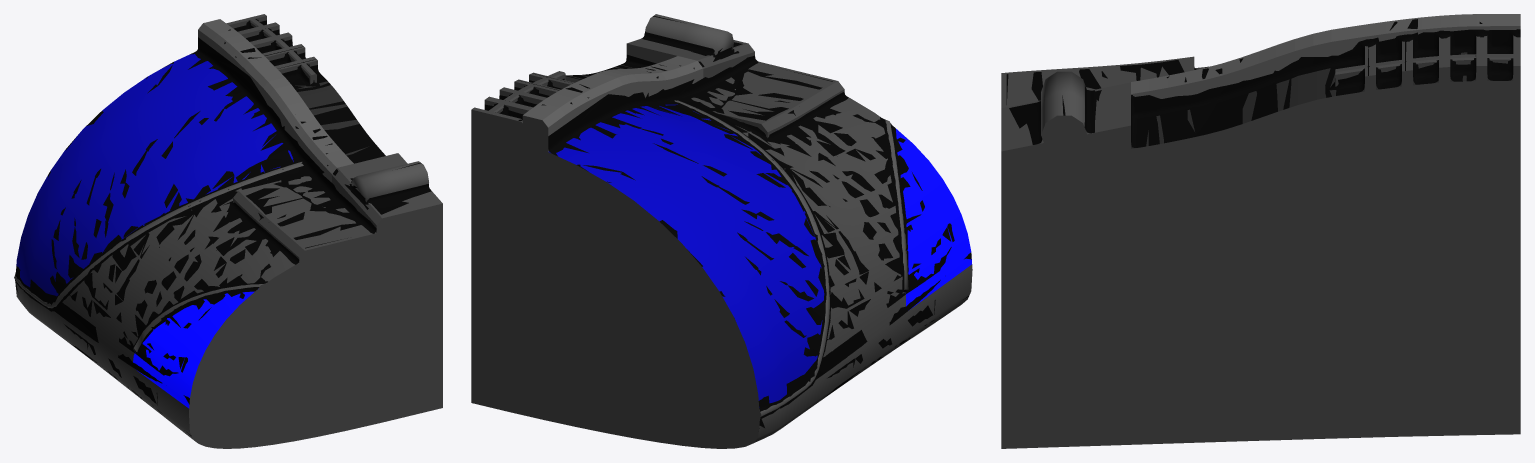
The model's file is newsh9-54.glb.
The picture shows the model from 3 angles, left to right: view 1: azimuth 30°, elevation 25°; view 2: azimuth 150°, elevation 25°; view 3: azimuth 270°, elevation 25°; orthographic projection. The views are drawn at different scales.
Parts seen in each view (by area): view 1: newsh9-54, newsh9-54_outline; view 2: newsh9-54, newsh9-54_outline; view 3: newsh9-54, newsh9-54_outline.
Boxes of the visible parts, box(x1,y1,x2,y2) form: newsh9-54: box(14, 14, 442, 448); newsh9-54_outline: box(15, 19, 431, 436); newsh9-54: box(471, 14, 972, 448); newsh9-54_outline: box(484, 16, 971, 428); newsh9-54: box(1001, 14, 1520, 448); newsh9-54_outline: box(1006, 19, 1520, 440).
Bounding box in the file's own units: 1.93 × 1.94 × 2.33.
